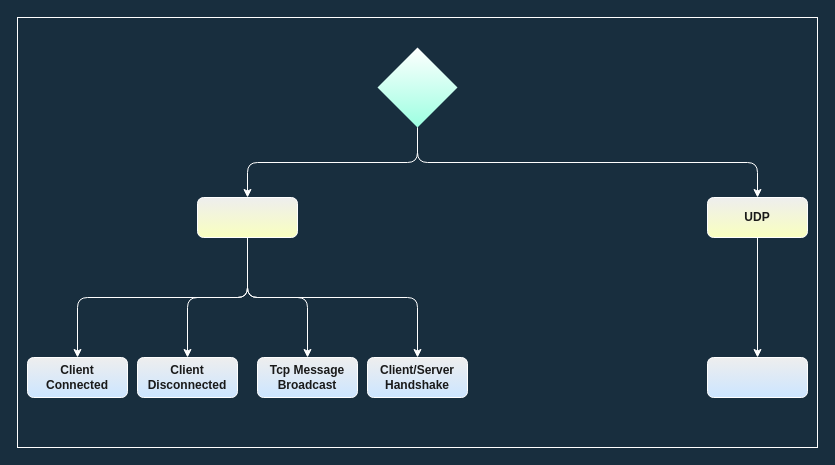
Image size: 835x465. Some labels were removed from this diagram. The centre of each missing label's shape, as x and y in pixels:
SERVER: the point at 417,87
TCP: the point at 247,217
Udp Message Broadcast: the point at 757,377
